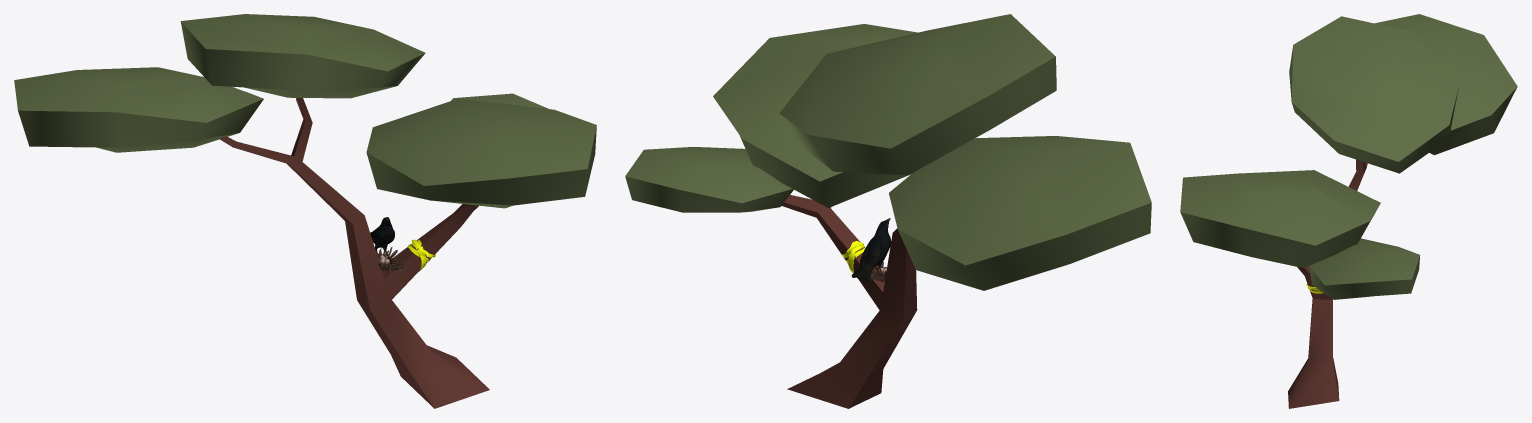
The model's file is bird_fixed.FBX.
3 views of the same model, side by side, from view 1: azimuth 30°, elevation 25°; view 2: azimuth 150°, elevation 25°; view 3: azimuth 270°, elevation 25° (orthographic). The views are drawn at different scales.
Parts seen in each view (by area): view 1: tree, magpie; view 2: tree, magpie; view 3: tree.
Part boxes in pixels (left/top/right/bottom): tree: left=14, top=14, right=596, bottom=408; magpie: left=370, top=217, right=394, bottom=264; tree: left=625, top=14, right=1151, bottom=408; magpie: left=851, top=218, right=891, bottom=281; tree: left=1180, top=14, right=1517, bottom=408.
Size of the model in its own units: 197 by 144 by 146.
